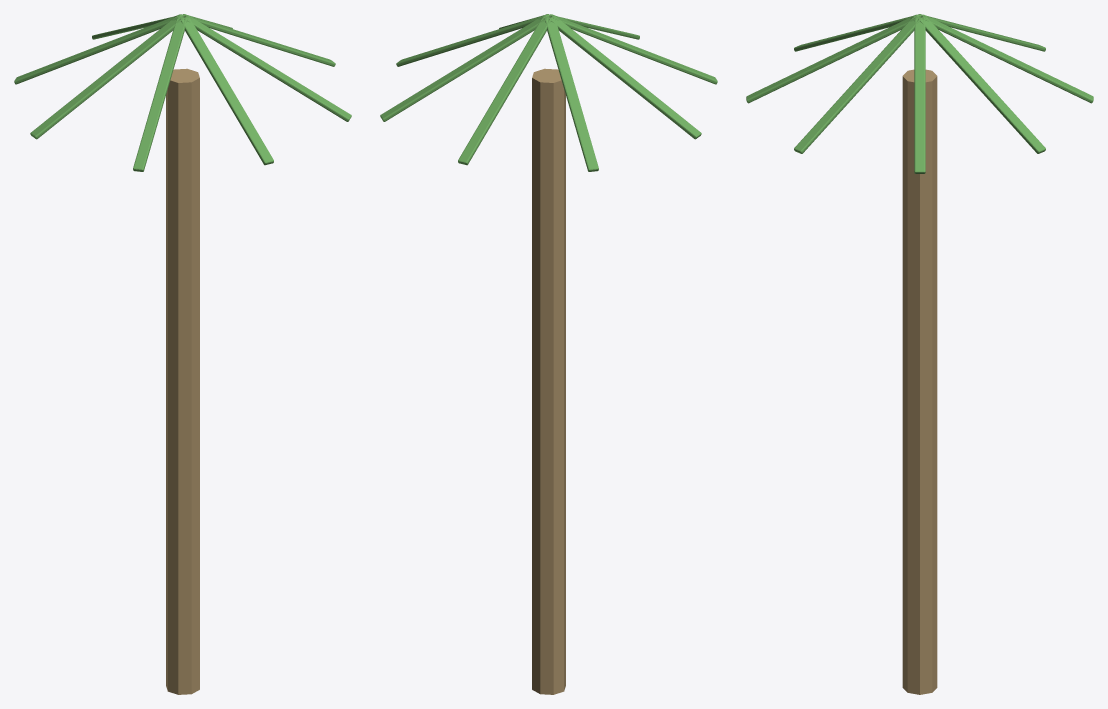
The model's file is palm.glb.
3 renders of one model, left to right at view 1: azimuth 30°, elevation 25°; view 2: azimuth 150°, elevation 25°; view 3: azimuth 270°, elevation 25°, orthographic.
Parts seen in each view (by area): view 1: trunk; view 2: trunk; view 3: trunk.
Boxes of the visible parts, bbox=[...] form: trunk: bbox=[14, 14, 351, 694]; trunk: bbox=[380, 14, 717, 694]; trunk: bbox=[746, 14, 1093, 694].
Size of the model in its own units: 2.78 by 5.93 by 2.78.
